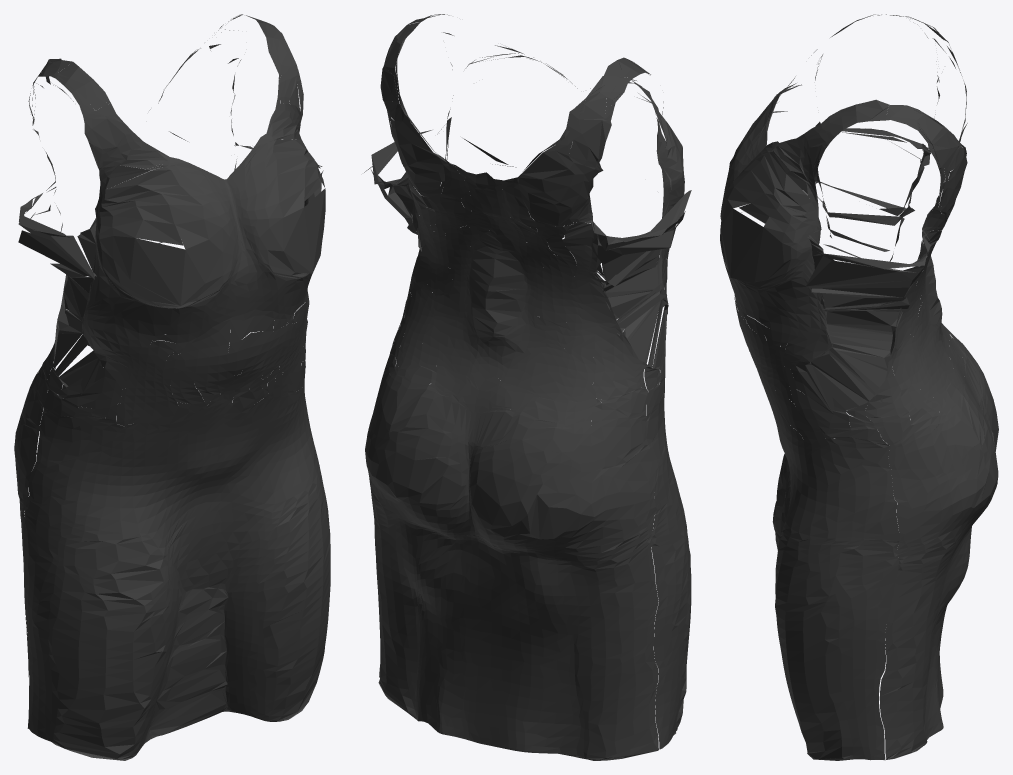
File: cc_shift.glb
3 views of the same model, side by side, from view 1: azimuth 30°, elevation 25°; view 2: azimuth 150°, elevation 25°; view 3: azimuth 270°, elevation 25° (orthographic). The views are drawn at different scales.
Visible parts, largest first — view 1: geometry_0; view 2: geometry_0; view 3: geometry_0.
Part boxes in pixels (left/top/right/bottom): geometry_0: left=14, top=14, right=330, bottom=760; geometry_0: left=364, top=14, right=691, bottom=760; geometry_0: left=720, top=14, right=998, bottom=760.
Size of the model in its own units: 0.2517 by 0.554 by 0.2125.
Materials: 1 (1 with a texture image).
